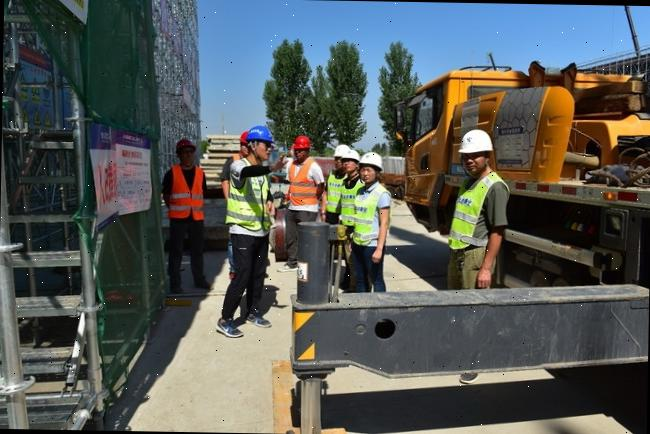helmet: (454, 128, 495, 156), (242, 124, 272, 144), (356, 150, 384, 168), (290, 135, 312, 151), (341, 148, 360, 162), (173, 137, 195, 149), (333, 142, 350, 157)
wear: (451, 178, 505, 254), (224, 162, 268, 234), (355, 186, 390, 248), (165, 165, 204, 219), (285, 162, 320, 210), (322, 170, 344, 214), (340, 181, 359, 224)
